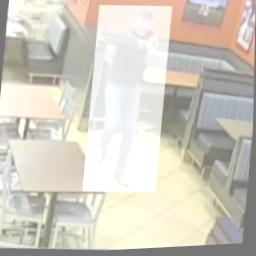nonspitting: (82, 2, 173, 198)
